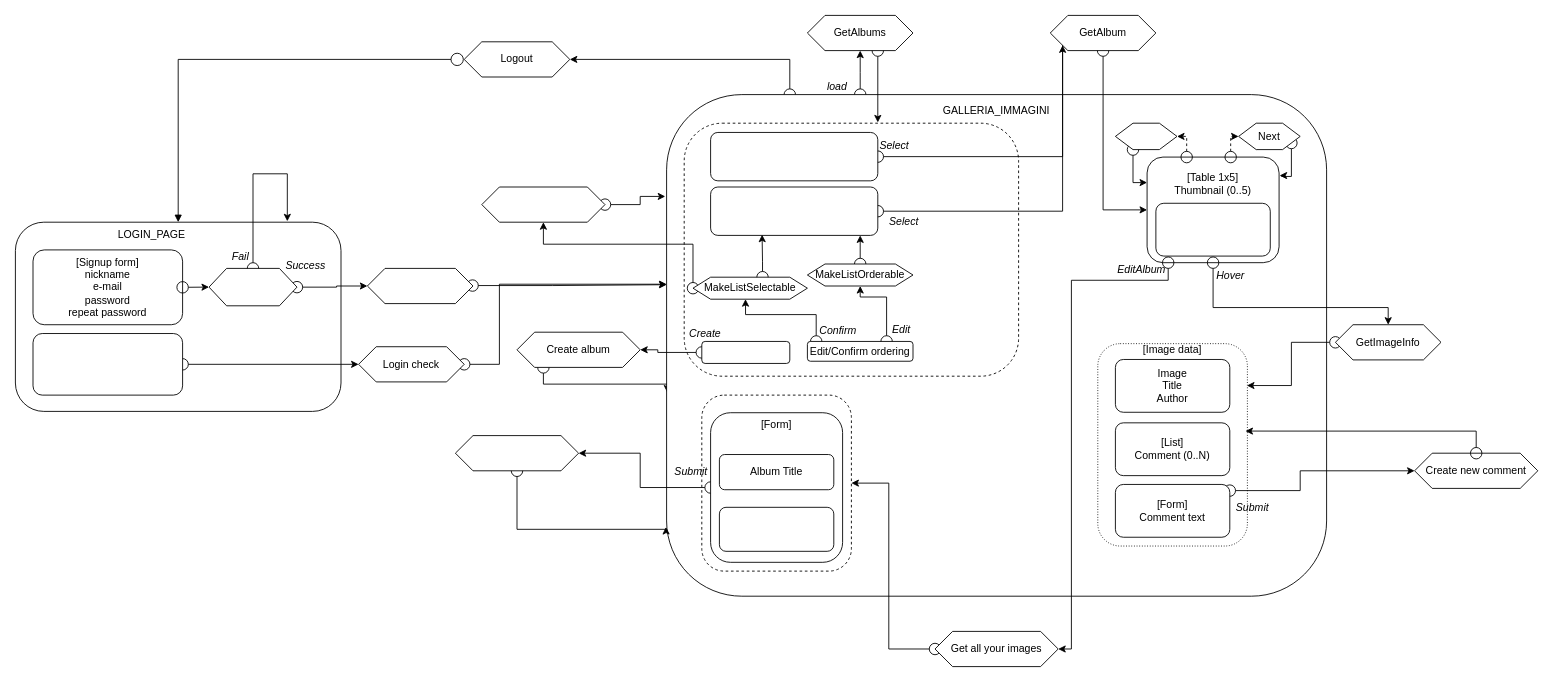
The diagram is 1553 pixels wide and 682 high, and some of its shapes have lost their labels. The centre of each missing label's shape, as x and y in pixels:
":List Checkbox" goes at pixel 776 528.
"[Login form] Username password" goes at pixel 107 364.
"[Table NxM] (Others) Album (0..A)" goes at pixel 794 156.
"[Table NxM] (User) Album (0..B)" goes at pixel 794 210.
"Check email and password" goes at pixel 252 287.
"Create new album" goes at pixel 745 352.
"Edit album" goes at pixel 517 453.
"Image Title" goes at pixel 1212 229.
"Previous" goes at pixel 1146 136.
"Signup check" goes at pixel 420 286.
"Update ordering" goes at pixel 543 204.
